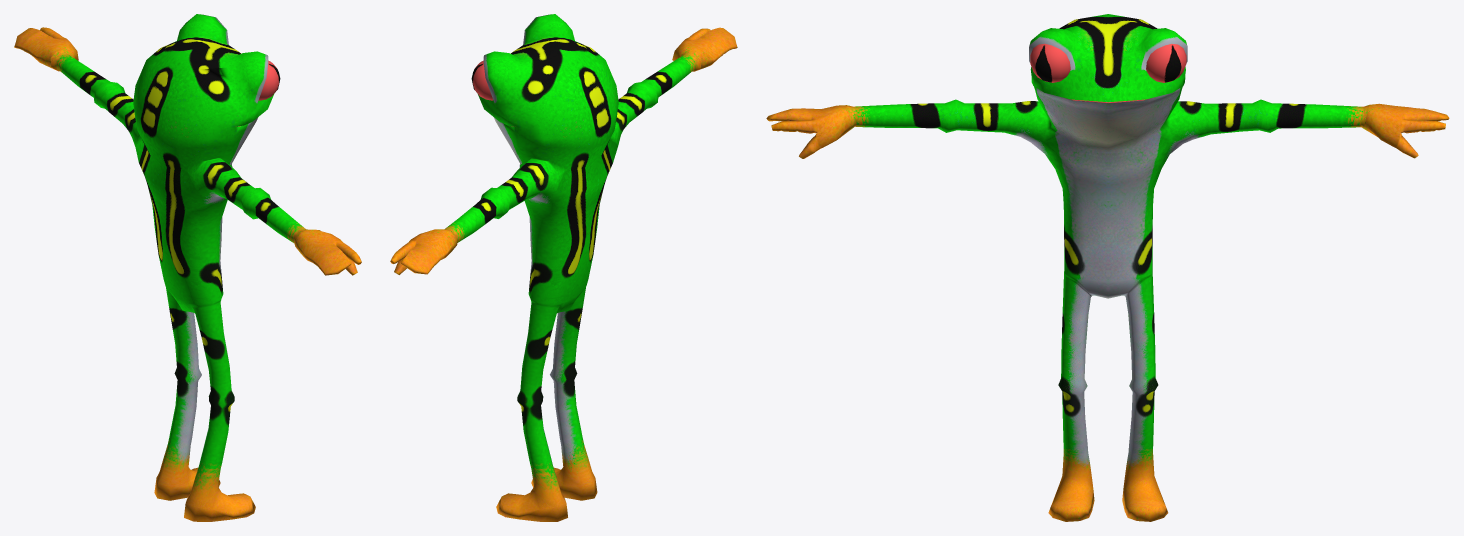
The model's file is Frog Man-optimized.glb.
3 views of the same model, side by side, from view 1: azimuth 30°, elevation 25°; view 2: azimuth 150°, elevation 25°; view 3: azimuth 270°, elevation 25° (orthographic). The views are drawn at different scales.
Parts seen in each view (by area): view 1: mesh_char_104_1; view 2: mesh_char_104_1; view 3: mesh_char_104_1.
Part boxes in pixels (x1=…): mesh_char_104_1: x1=14, y1=14, x2=361, y2=521; mesh_char_104_1: x1=390, y1=14, x2=737, y2=521; mesh_char_104_1: x1=766, y1=14, x2=1449, y2=521.
Size of the model in its own units: 1.08 by 3.95 by 5.02.
Materials: 1 (1 with a texture image).
